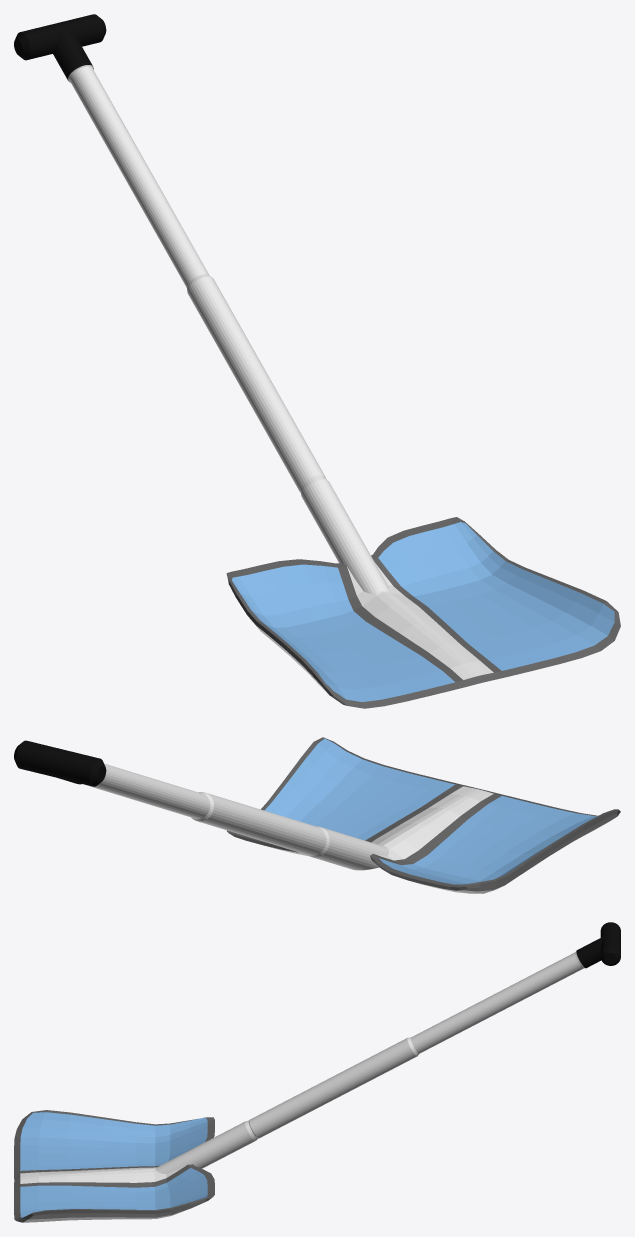
The model's file is shovel2.fbx.
3 renders of one model, top to bottom at view 1: azimuth 30°, elevation 25°; view 2: azimuth 150°, elevation 25°; view 3: azimuth 270°, elevation 25°, orthographic. The views are drawn at different scales.
Visible parts, largest first — view 1: Shovel; view 2: Shovel; view 3: Shovel.
Part boxes in pixels (x1,y1,x2,y2): Shovel: (14,14,620,708); Shovel: (14,737,620,893); Shovel: (14,922,620,1222).
Size of the model in its own units: 709 by 809 by 1787.
